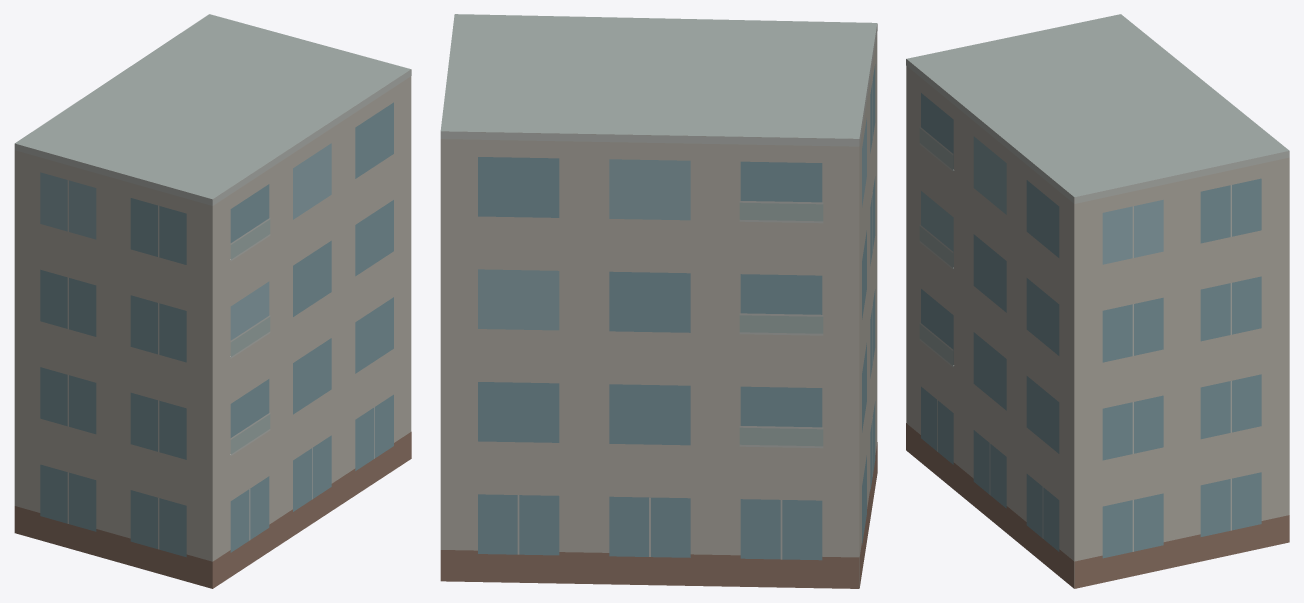
File: survey-upis-32979888.glb
3 renders of one model, left to right at view 1: azimuth 30°, elevation 25°; view 2: azimuth 150°, elevation 25°; view 3: azimuth 270°, elevation 25°, orthographic. The views are drawn at different scales.
Visible parts, largest first — view 1: survey-upis-32979888.tmp; view 2: survey-upis-32979888.tmp; view 3: survey-upis-32979888.tmp.
Boxes of the visible parts, left/top/right/bottom form: survey-upis-32979888.tmp: left=14, top=14, right=411, bottom=588; survey-upis-32979888.tmp: left=440, top=14, right=877, bottom=588; survey-upis-32979888.tmp: left=906, top=14, right=1289, bottom=588.
Bounding box in the file's own units: 14.16 × 14.1 × 12.52.
